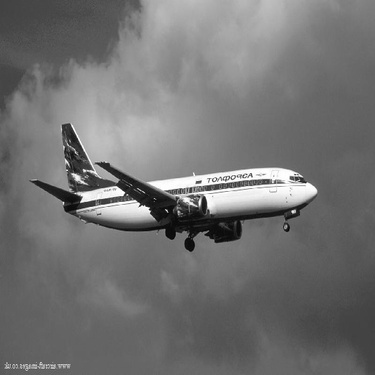airplane: (1, 117, 323, 258)
